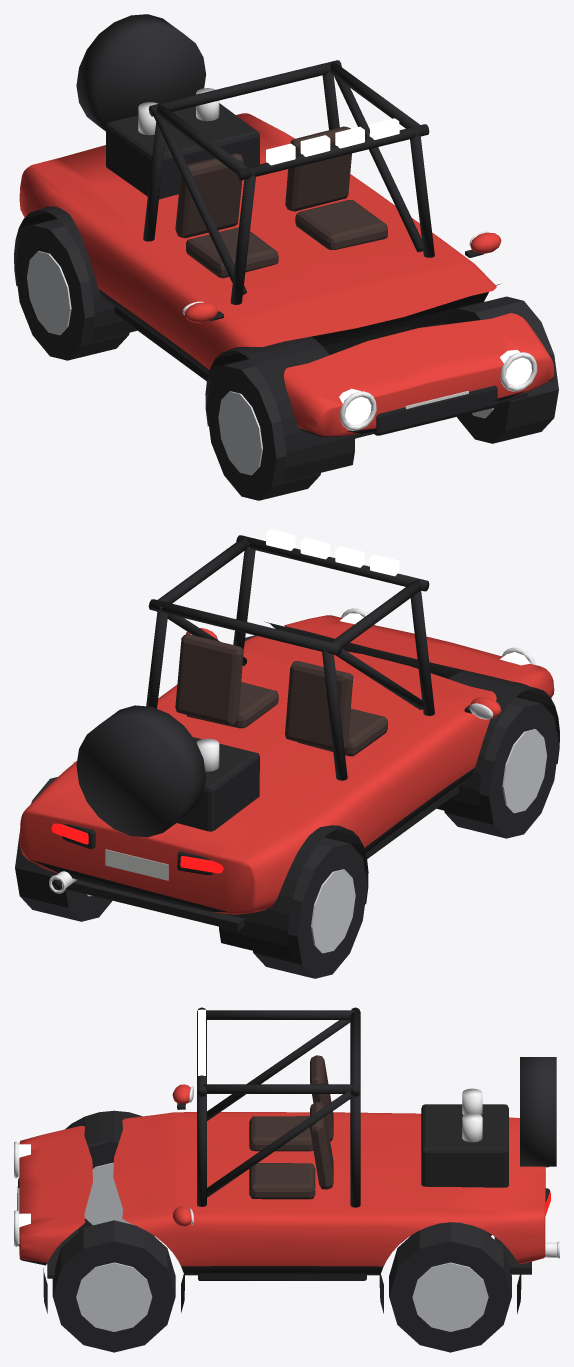
The model's file is dune_lod.glb.
3 renders of one model, top to bottom at view 1: azimuth 30°, elevation 25°; view 2: azimuth 150°, elevation 25°; view 3: azimuth 270°, elevation 25°, orthographic. The views are drawn at different scales.
Visible parts, largest first — view 1: body, wheel_rr, wheel_fr, wheel_fl; view 2: body, wheel_fr, wheel_rr, wheel_rl; view 3: body, wheel_fl, wheel_rl, wheel_fr.
Boxes of the visible parts, bbox=[...] form: body: bbox=[14, 14, 554, 481]; wheel_rr: bbox=[15, 219, 129, 360]; wheel_fr: bbox=[206, 359, 320, 500]; wheel_fl: bbox=[444, 296, 558, 443]; body: bbox=[19, 529, 559, 959]; wheel_fr: bbox=[444, 697, 558, 838]; wheel_rr: bbox=[253, 837, 367, 978]; wheel_rl: bbox=[15, 777, 112, 921]; body: bbox=[14, 1007, 559, 1313]; wheel_fl: bbox=[52, 1220, 175, 1352]; wheel_rl: bbox=[389, 1222, 511, 1352]; wheel_fr: bbox=[78, 1140, 153, 1235].
Bounding box in the file's own units: 2.18 × 1.92 × 3.73.
